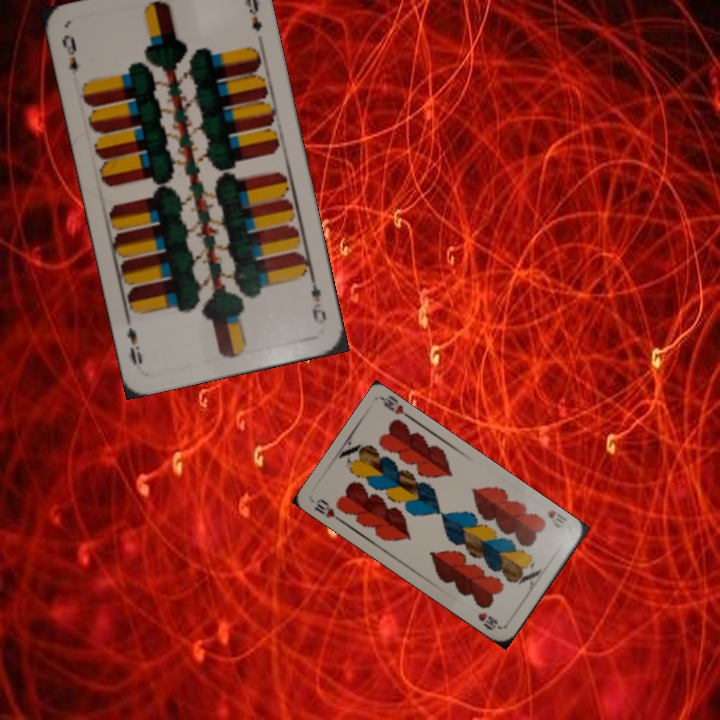E9: (306, 271, 330, 327), (57, 30, 81, 77)
H10: (310, 495, 345, 525), (543, 506, 568, 531)
